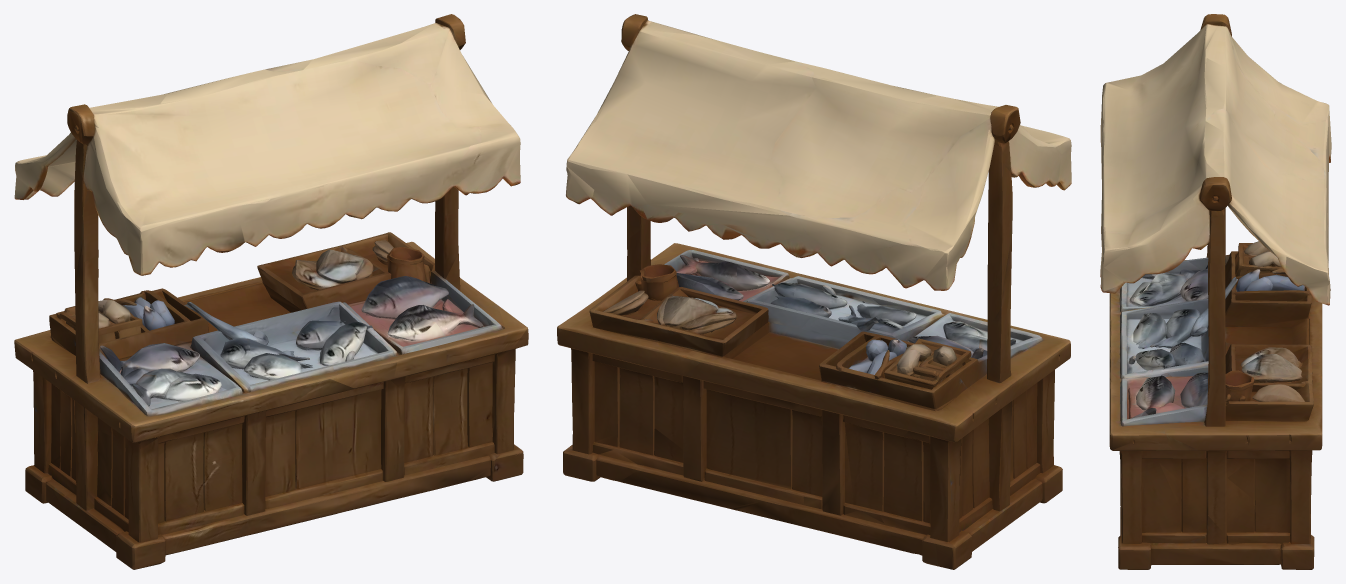
3 views of the same model, side by side, from view 1: azimuth 30°, elevation 25°; view 2: azimuth 150°, elevation 25°; view 3: azimuth 270°, elevation 25° (orthographic). The views are drawn at different scales.
Visible parts, largest first — view 1: model; view 2: model; view 3: model.
Boxes of the visible parts, left/top/right/bottom form: model: left=14, top=14, right=528, bottom=569; model: left=557, top=14, right=1071, bottom=569; model: left=1100, top=14, right=1331, bottom=569.
Bounding box in the file's own units: 1.88 × 1.9 × 1.04.
1 material, 1 textured.
